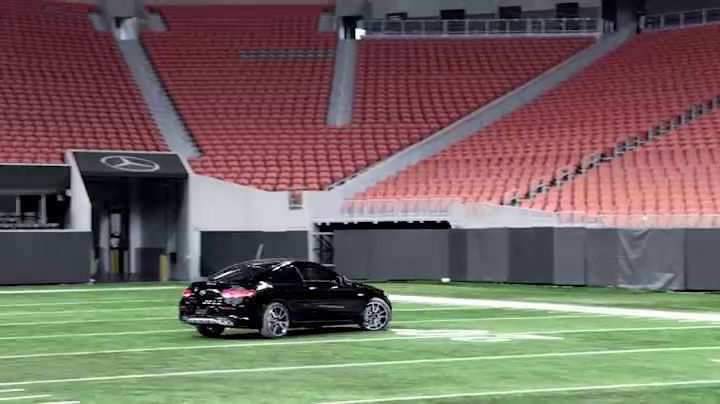amg: (177, 256, 398, 338)
